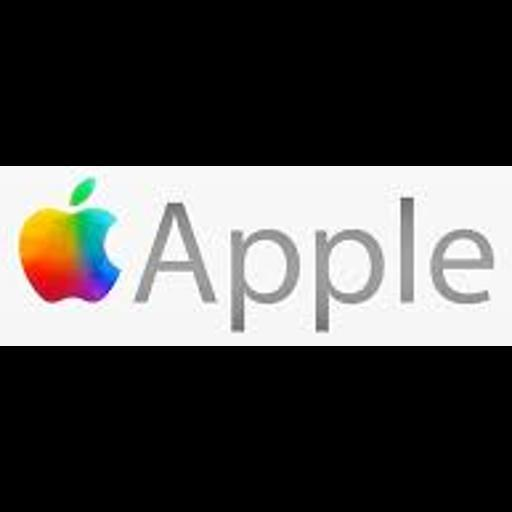Apple: (0, 166, 512, 346)
